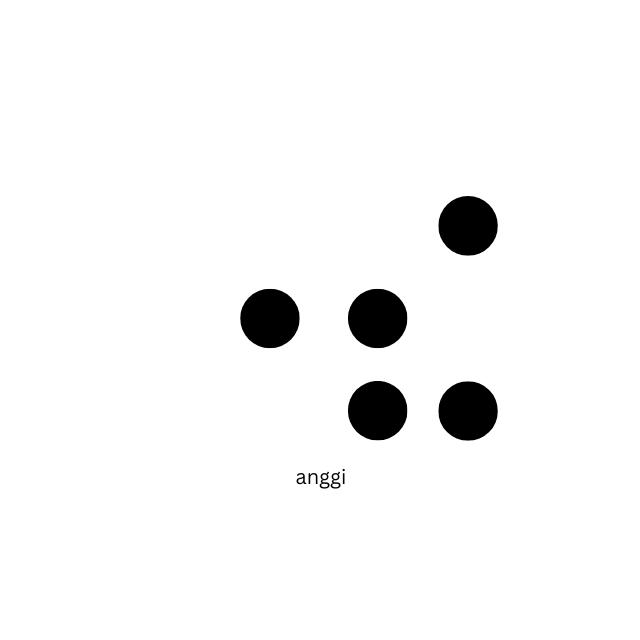dot_5: (150, 197, 301, 443)
two_cell_non_alphabet_anggi: (346, 196, 497, 442)
